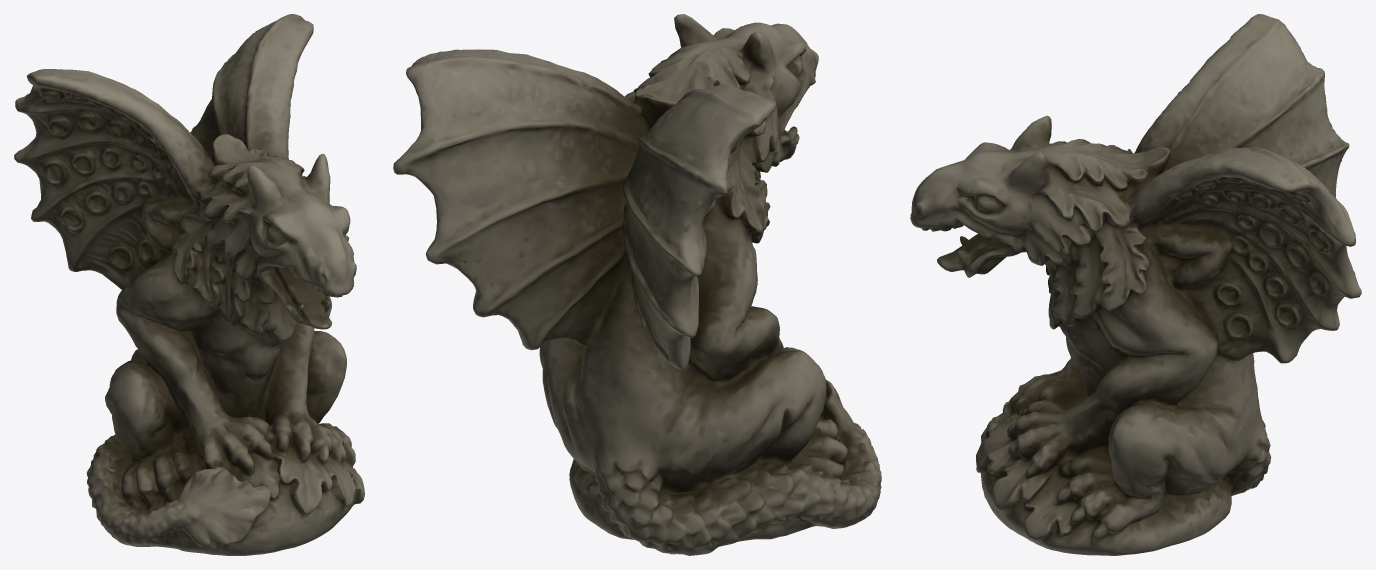
File: gargo.obj
3 views of the same model, side by side, from view 1: azimuth 30°, elevation 25°; view 2: azimuth 150°, elevation 25°; view 3: azimuth 270°, elevation 25° (orthographic). The views are drawn at different scales.
Bounding box in the file's own units: 93.85 × 125 × 119.
